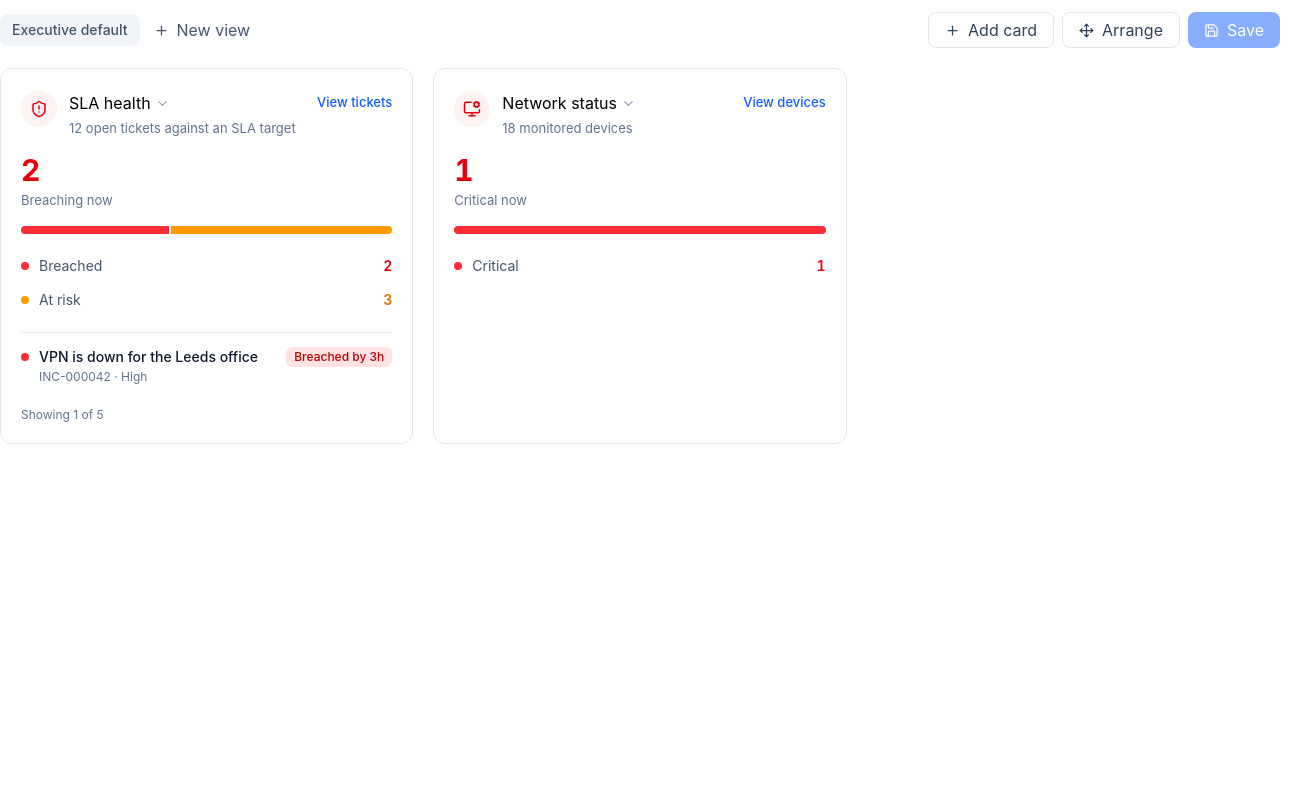
it: DashboardPage › the card menu › removes a card from the view
The width and height of the screenshot is (1292, 812).
Click the button "SLA health": (119, 103) 63,89 -> 176,117
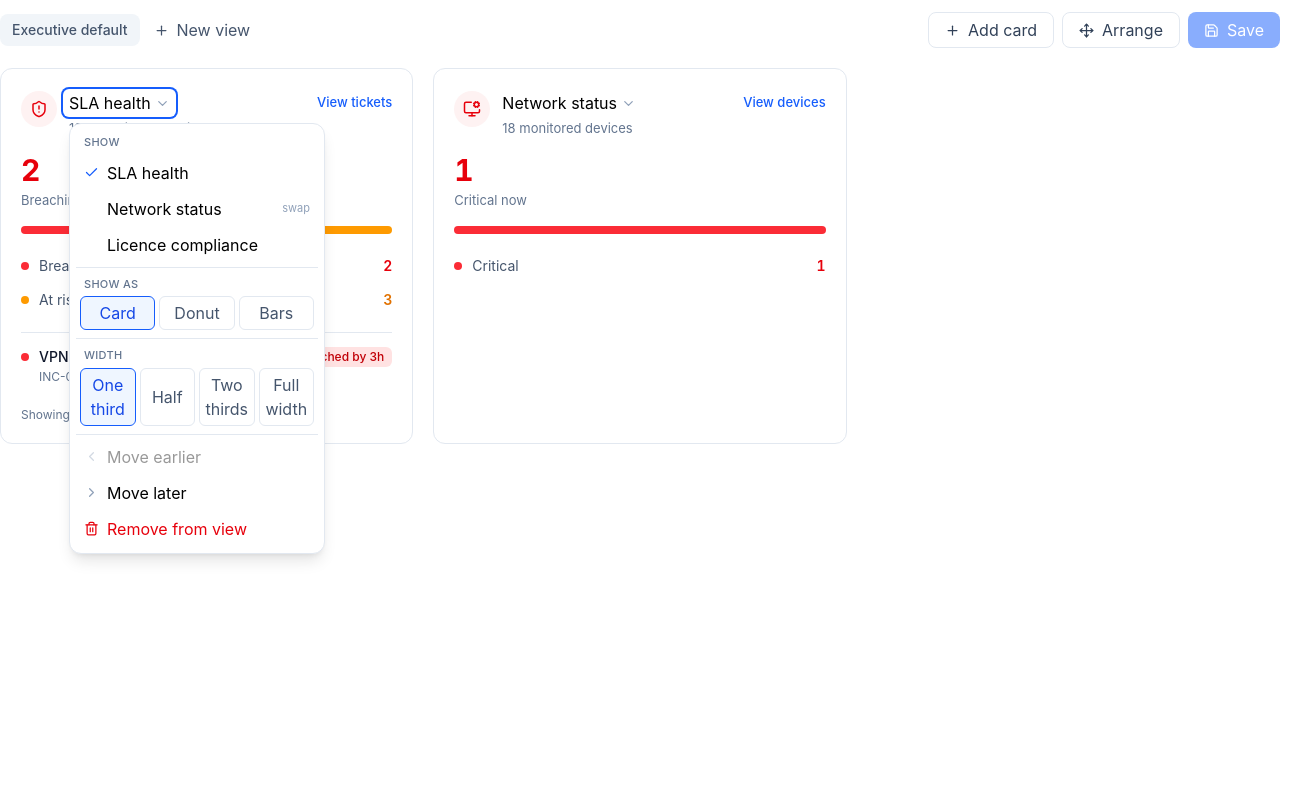
Click the menu item "Remove from view": (197, 528) 76,510 -> 318,546
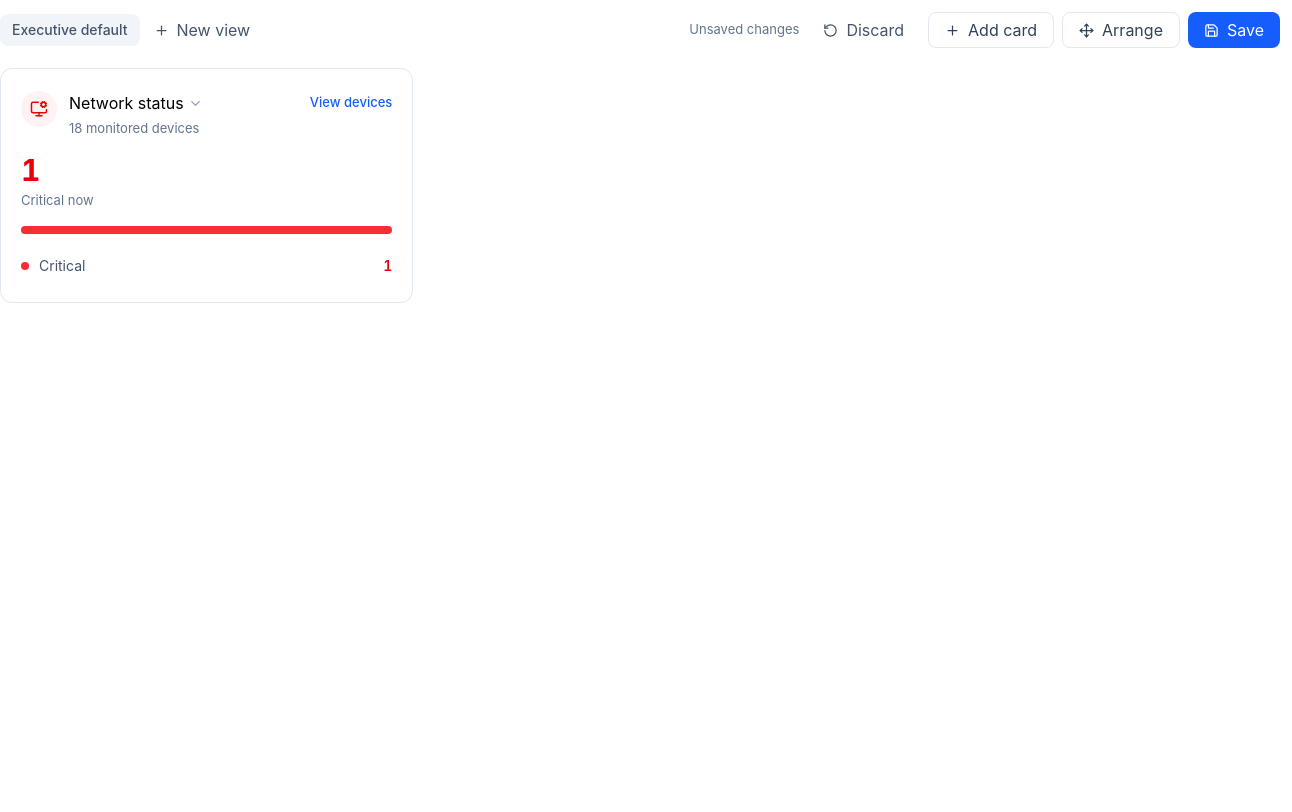
Check: the button "SLA health" is gone
Check: the text "Unsaved changes" is shown, box 689,20 -> 799,40
